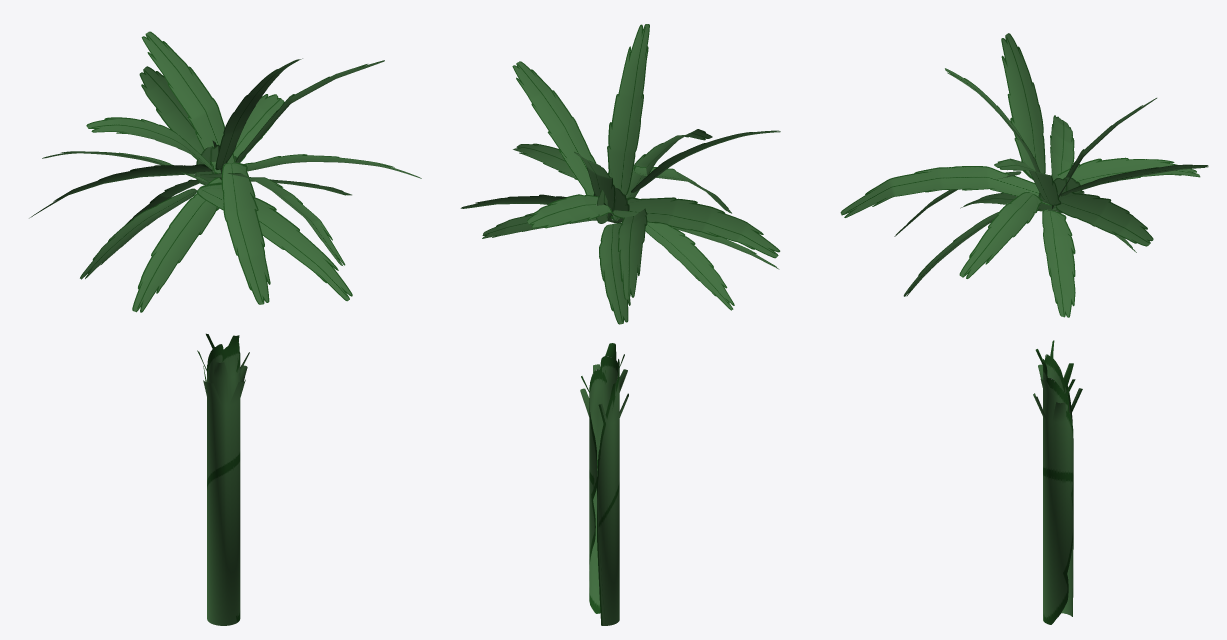
The model's file is SabalPalm1.fbx.
3 renders of one model, left to right at view 1: azimuth 30°, elevation 25°; view 2: azimuth 150°, elevation 25°; view 3: azimuth 270°, elevation 25°, orthographic. The views are drawn at different scales.
Parts seen in each view (by area): view 1: BezierCurve.002; view 2: BezierCurve.002; view 3: BezierCurve.002.
Boxes of the visible parts, left/top/right/bottom form: BezierCurve.002: left=29, top=31, right=421, bottom=625; BezierCurve.002: left=460, top=24, right=780, bottom=625; BezierCurve.002: left=840, top=33, right=1208, bottom=624.
Size of the model in its own units: 8969 by 13859 by 8535.
2 materials, 2 textured.
